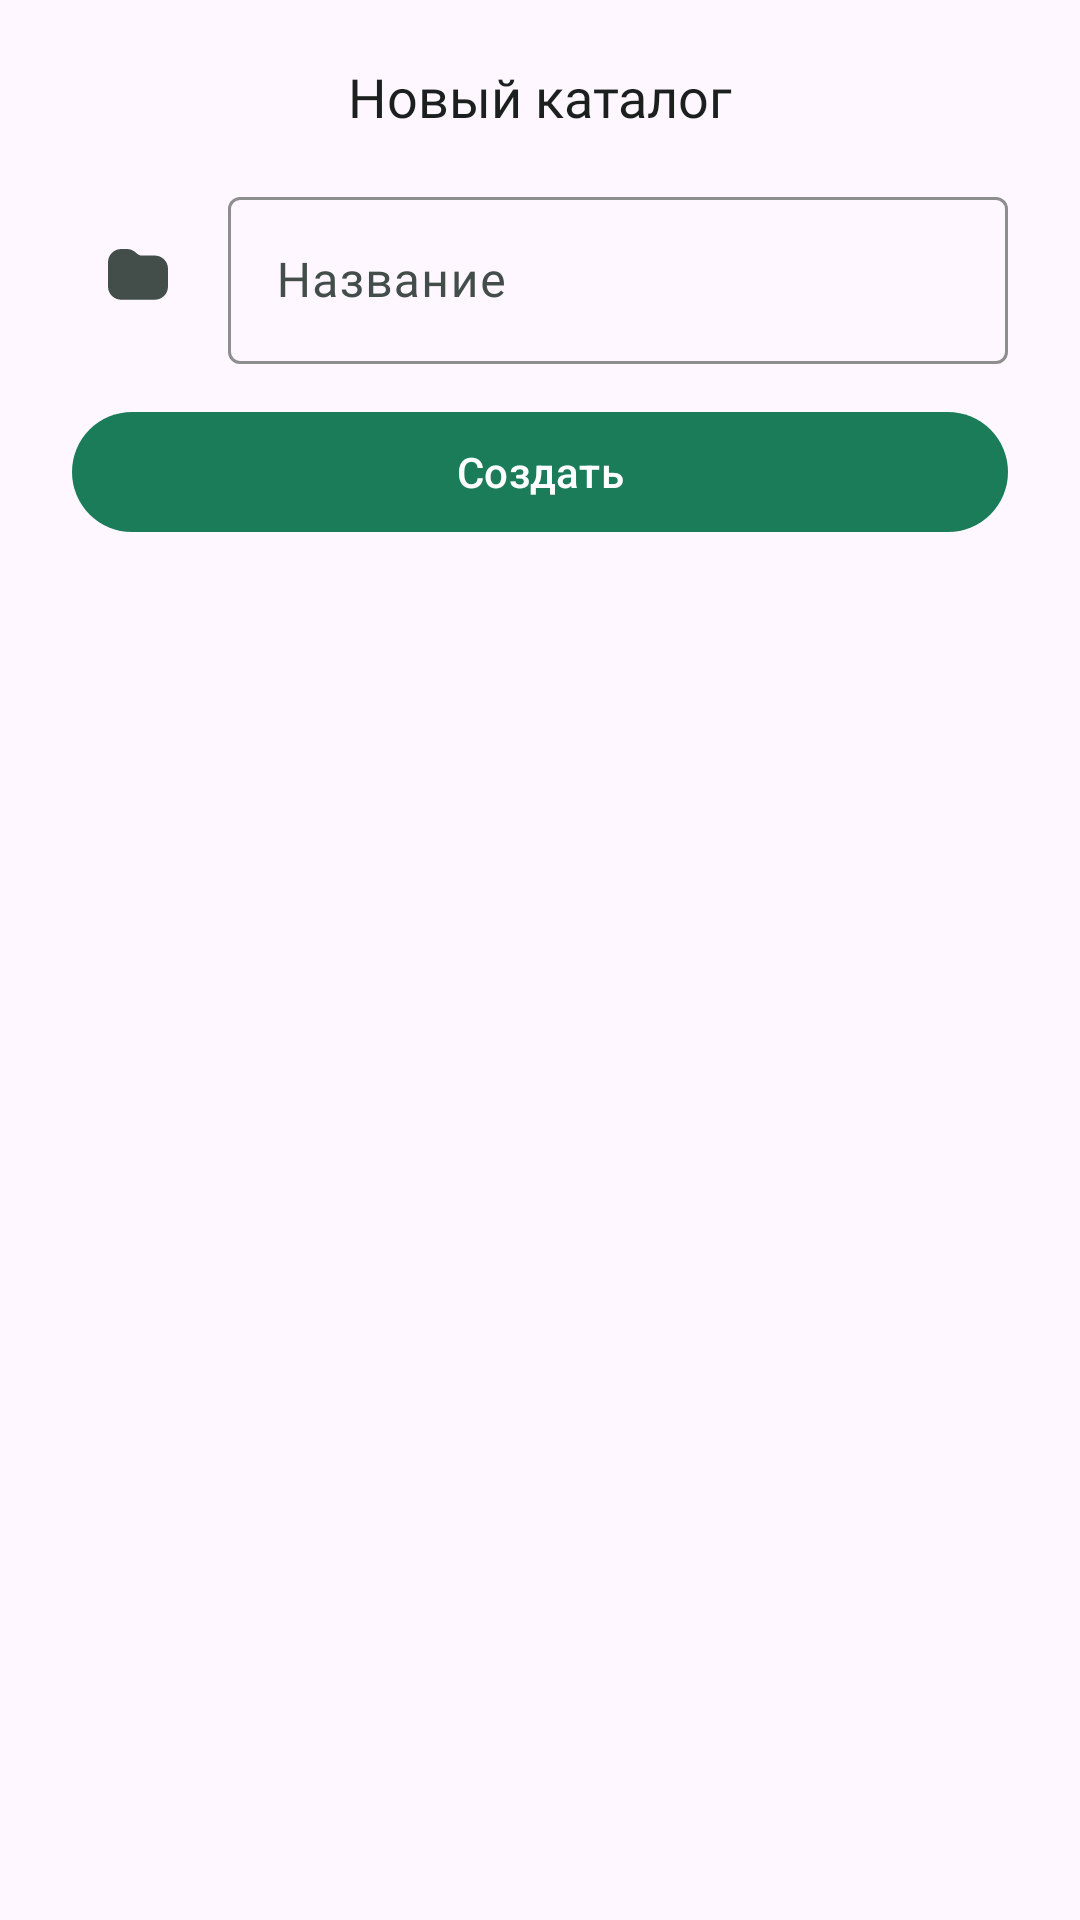

Screen size 1080px×1920px. Icon name, then its box in pixels as (x1, y1, x2, y2):
catalog: (108, 249, 168, 300)
